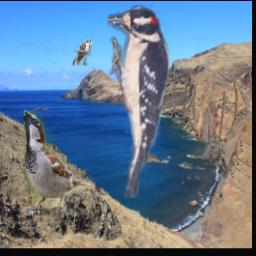Cuckoo: (70, 41, 91, 67)
Sparrow: (24, 111, 95, 216)
Woodpecker: (107, 3, 171, 199)
